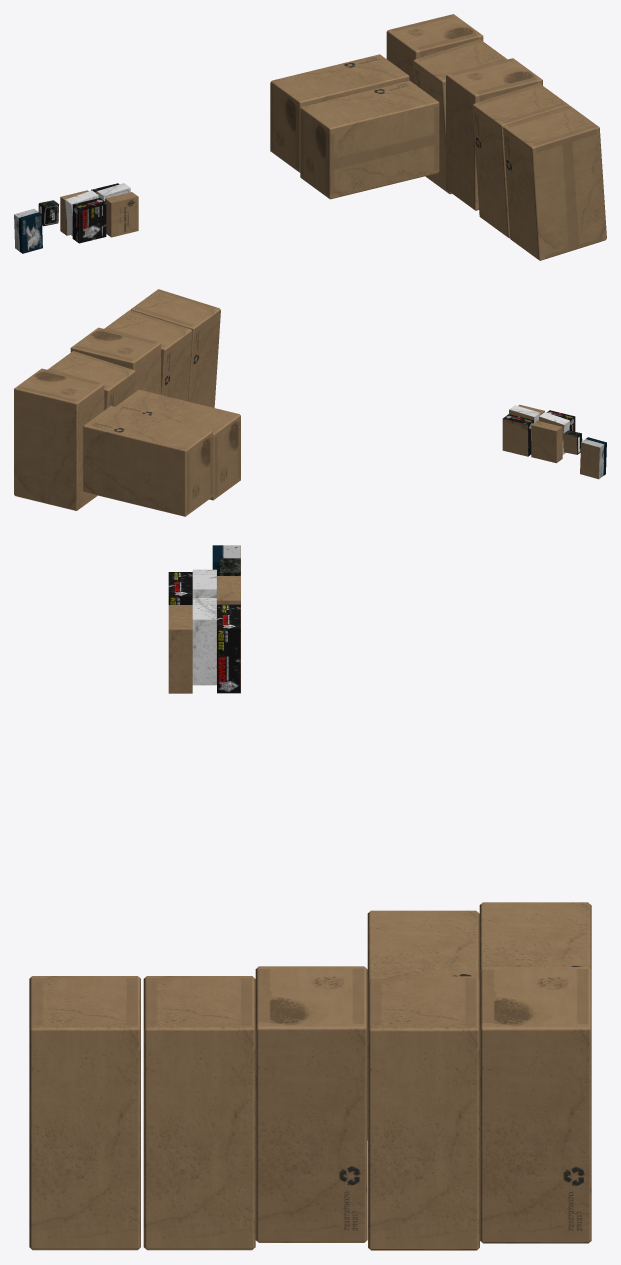
The model's file is boxes.obj.
3 renders of one model, top to bottom at view 1: azimuth 30°, elevation 25°; view 2: azimuth 150°, elevation 25°; view 3: azimuth 270°, elevation 25°, orthographic. The views are drawn at different scales.
Parts seen in each view (by area): view 1: CardboardBox.001_ReloadingPressBoxes; view 2: CardboardBox.001_ReloadingPressBoxes; view 3: CardboardBox.001_ReloadingPressBoxes.
Boxes of the visible parts, box(x1,y1,x2,y2) form: CardboardBox.001_ReloadingPressBoxes: box(14, 14, 606, 260); CardboardBox.001_ReloadingPressBoxes: box(14, 289, 606, 516); CardboardBox.001_ReloadingPressBoxes: box(29, 545, 591, 1250).
Bounding box in the file's own units: 3.46 × 0.8097 × 1.68.
Materials: 1 (1 with a texture image).
